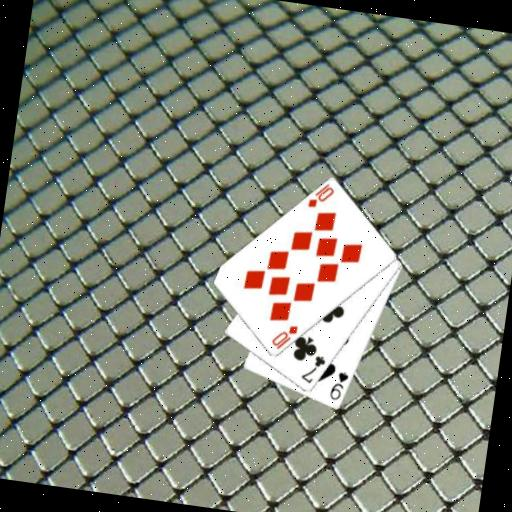10D: (268, 319, 300, 353), (305, 178, 337, 212)
7C: (297, 351, 328, 387)
9S: (327, 367, 351, 403)
